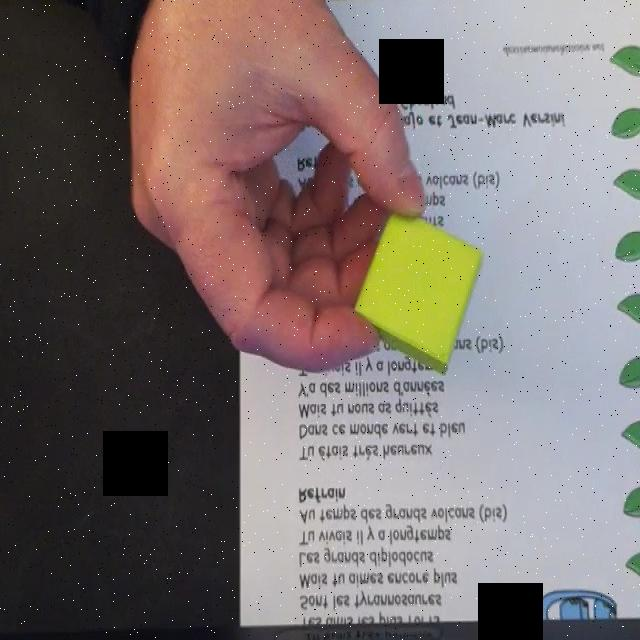square: (353, 207, 484, 376)
